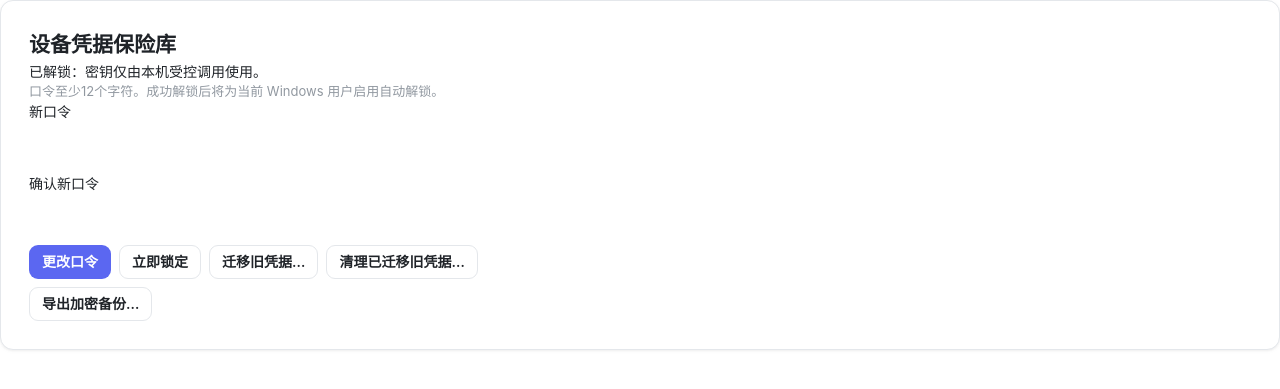
Scenario: runs native-confirmed cleanup without exposing a path or confirmation to the WebView
Click the button "清理已迁移旧凭据…" at [402, 262], box [326,245,478,279]
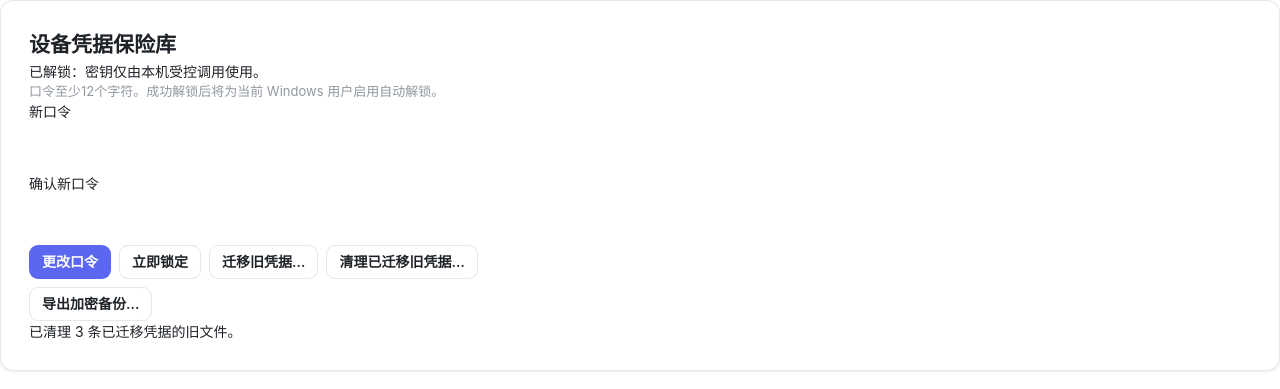
Expected: the text "已清理 3 条已迁移凭据的旧文件" is shown, [29,323,242,340]
